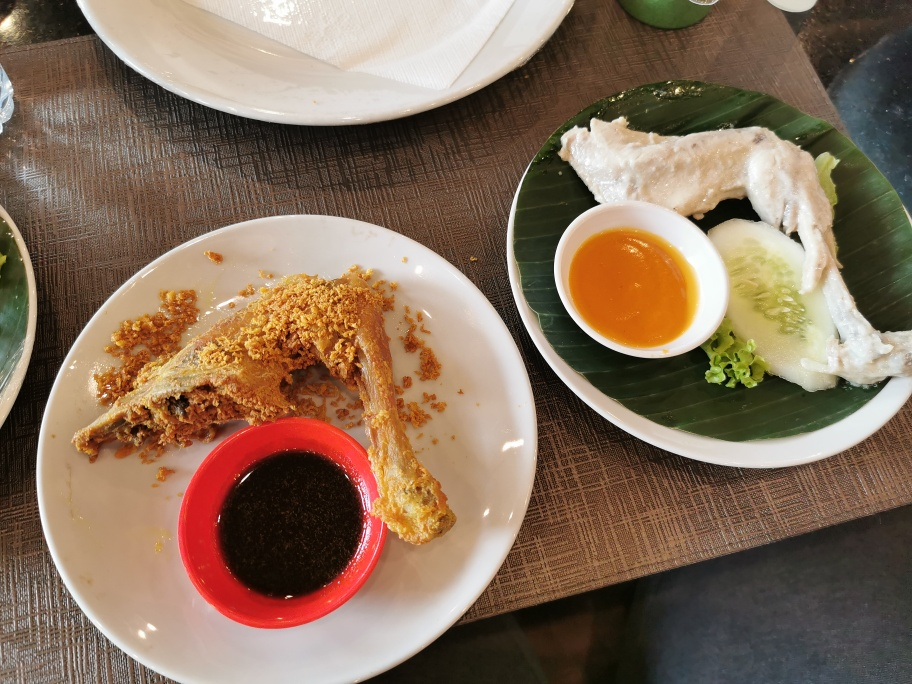ayam goreng: (74, 265, 457, 546)
ayam pop: (550, 117, 912, 383)
extra: (541, 195, 840, 396)
kecap: (169, 423, 386, 617)
